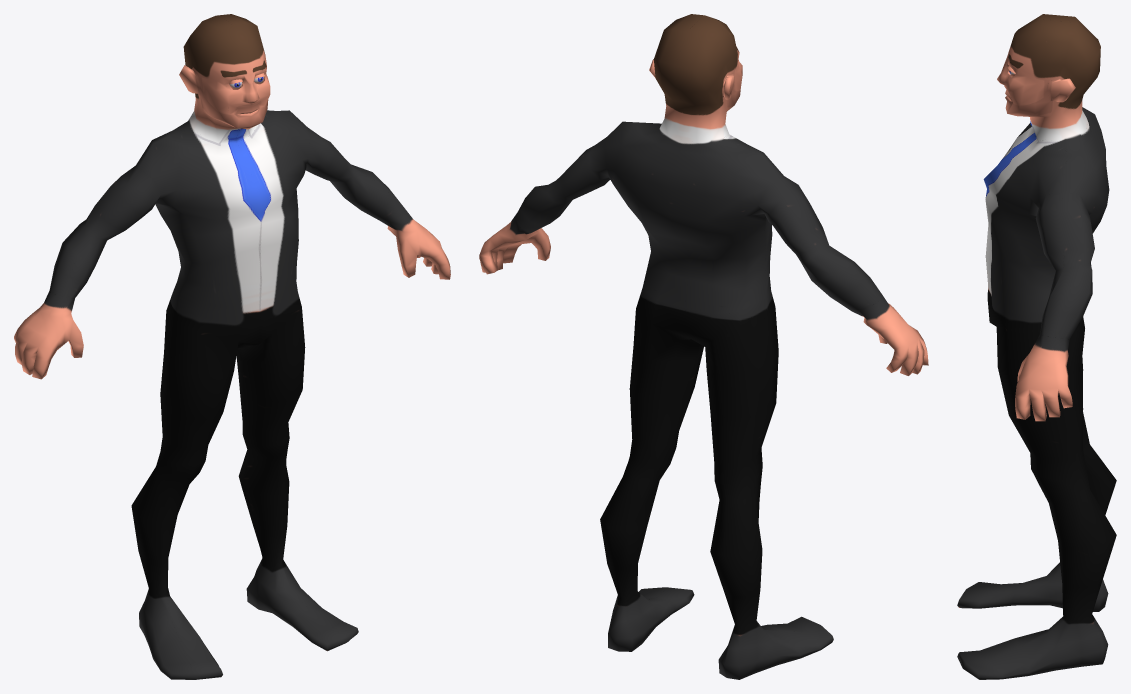
The model's file is Duke De Liver Model.fbx.
The picture shows the model from 3 angles, left to right: view 1: azimuth 30°, elevation 25°; view 2: azimuth 150°, elevation 25°; view 3: azimuth 270°, elevation 25°; orthographic projection. The views are drawn at different scales.
Visible parts, largest first — view 1: Low Poly Characte.000; view 2: Low Poly Characte.000; view 3: Low Poly Characte.000.
Boxes of the visible parts, x1,y1,x2,y2 form: Low Poly Characte.000: (14,14,450,679); Low Poly Characte.000: (479,14,928,679); Low Poly Characte.000: (957,14,1116,679).
Size of the model in its own units: 324 by 448 by 105.
Materials: 1 (1 with a texture image).
